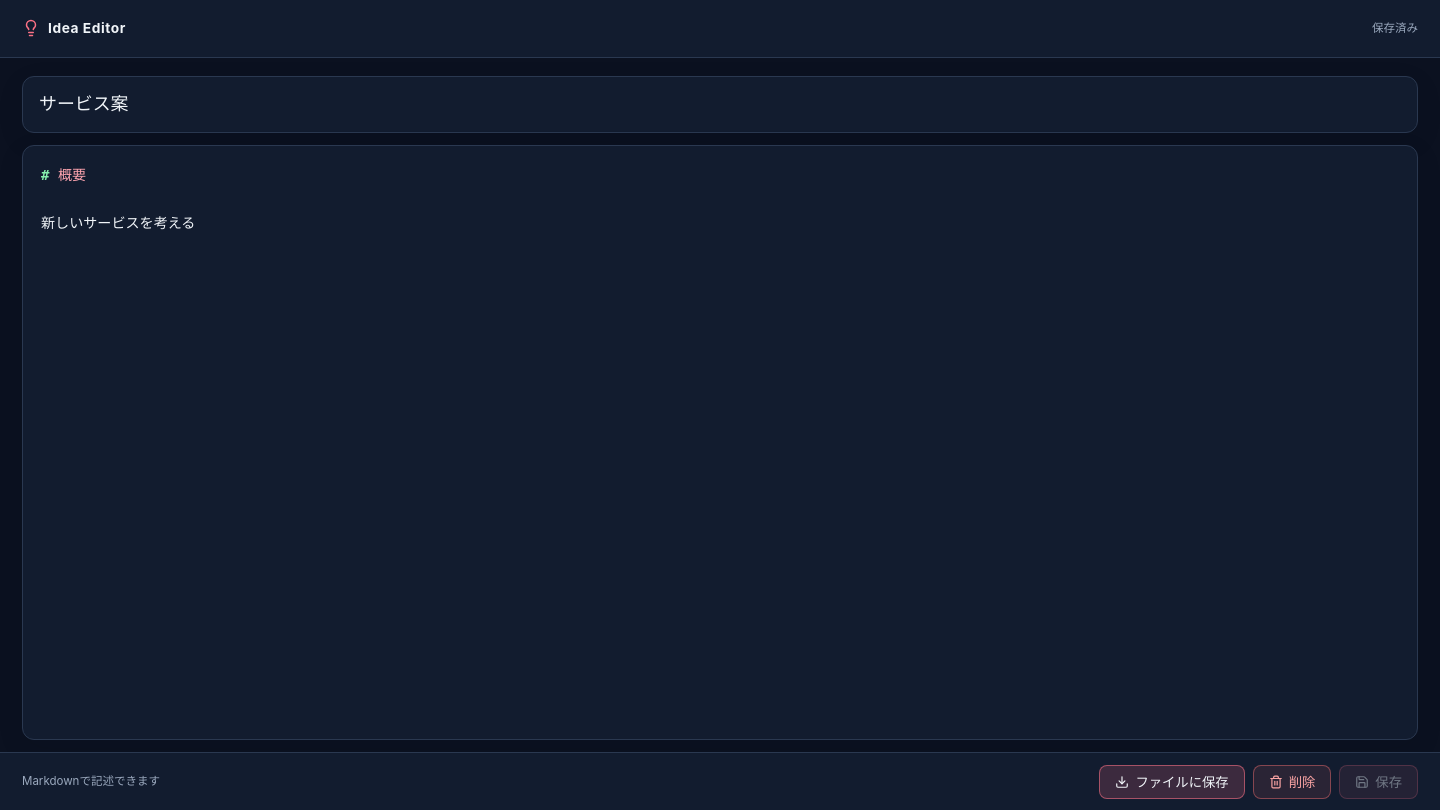
Test: IdeaEditorApp › reports an export error
The width and height of the screenshot is (1440, 810).
Click the button "ファイルに保存" at (1172, 782), box x1=1099 y1=764 x2=1245 y2=798
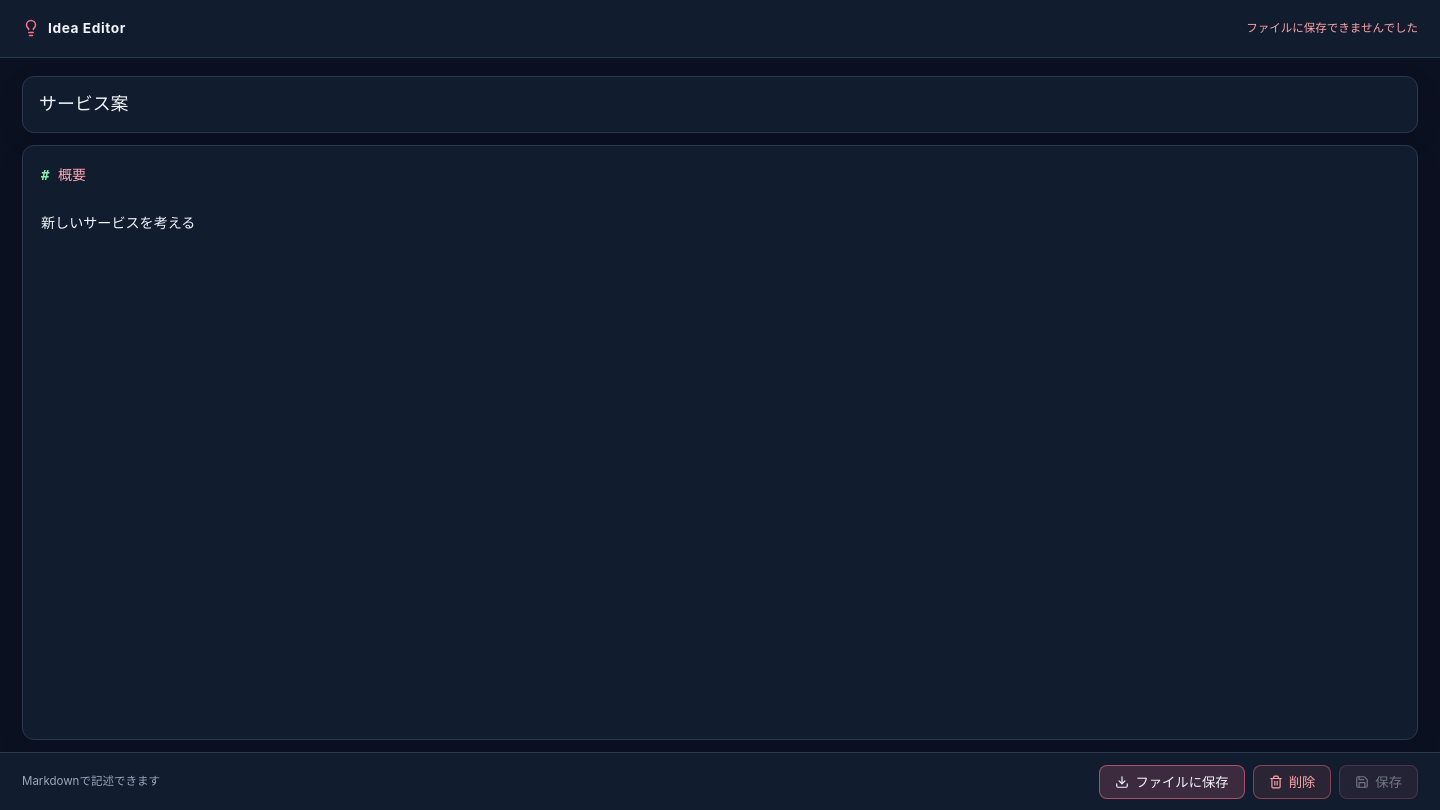
Now the text "ファイルに保存できませんでした" is shown, box x1=1246 y1=20 x2=1418 y2=37
